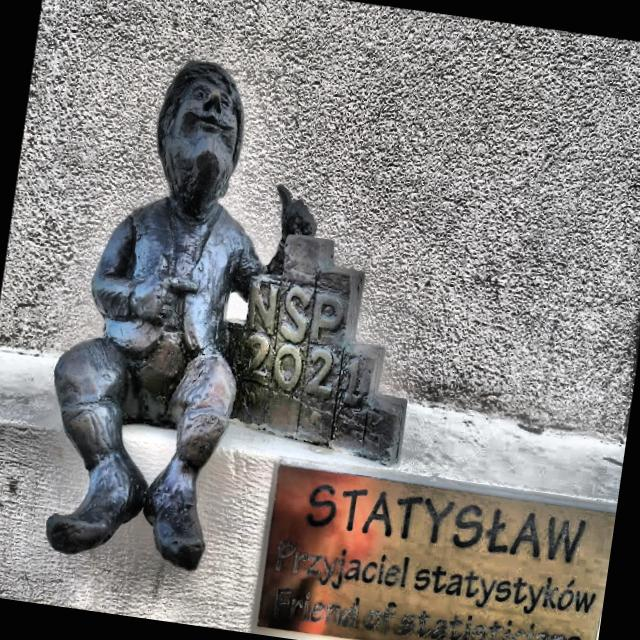Statyslaw: (47, 62, 406, 569)
